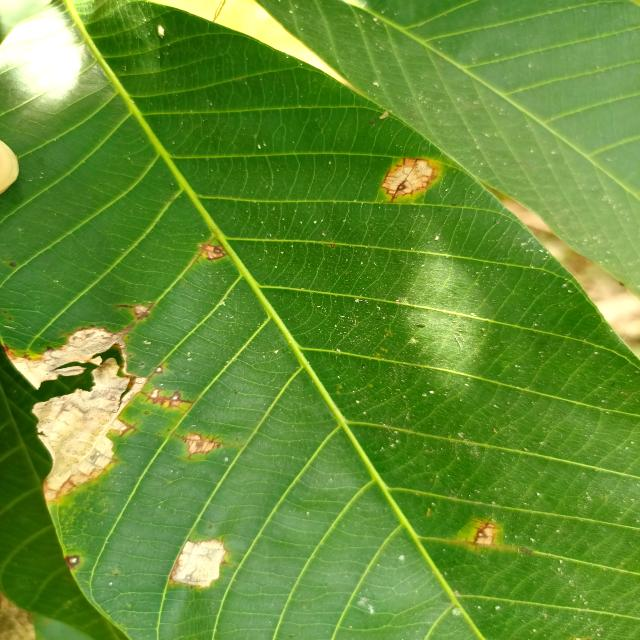Colletotrichum: (65, 555, 80, 567), (154, 366, 164, 374), (396, 183, 406, 190), (3, 311, 8, 314), (144, 411, 148, 414), (217, 445, 221, 448), (60, 331, 64, 334), (8, 317, 12, 320), (183, 282, 186, 285)
Corynespora: (177, 432, 227, 458), (142, 389, 194, 406), (194, 241, 228, 263), (117, 304, 155, 320), (472, 518, 495, 544), (118, 418, 141, 436), (94, 448, 114, 462), (85, 459, 102, 468)
Leaf-Blight: (0, 326, 148, 500), (171, 538, 226, 588), (382, 160, 431, 197)
